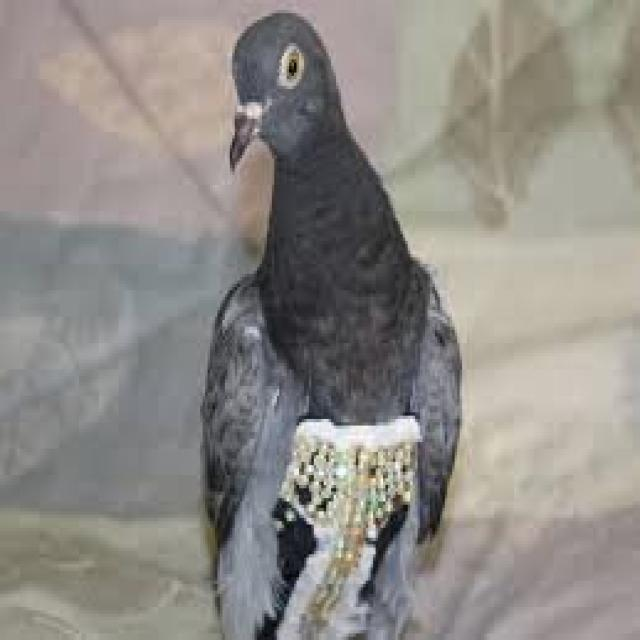pigeon: (200, 10, 460, 637)
